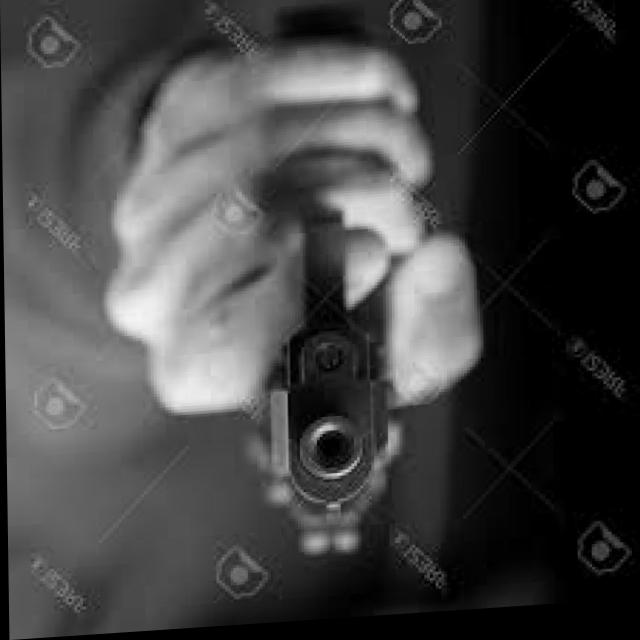handgun: (250, 0, 397, 575)
